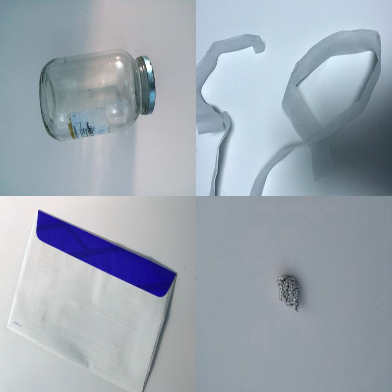glass: (38, 51, 156, 141)
metal: (275, 273, 301, 311)
paper: (8, 209, 177, 392)
trash: (198, 31, 382, 196)
